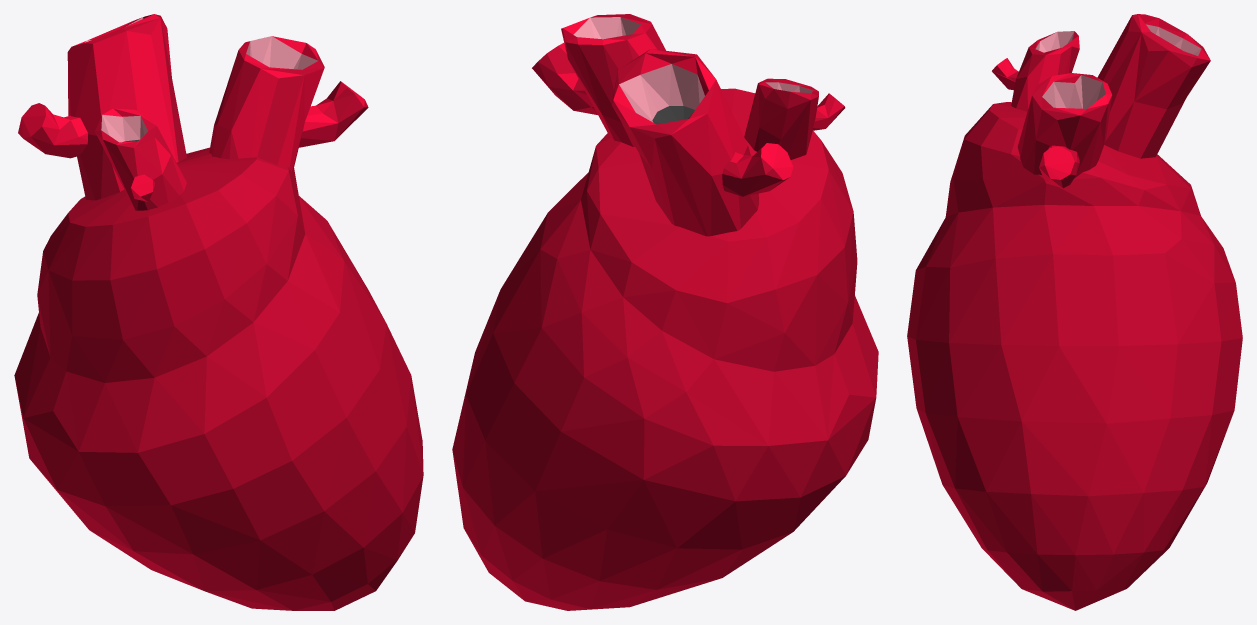
File: Ingredient_hart_1.fbx
The picture shows the model from 3 angles, left to right: view 1: azimuth 30°, elevation 25°; view 2: azimuth 150°, elevation 25°; view 3: azimuth 270°, elevation 25°; orthographic projection. The views are drawn at different scales.
Parts seen in each view (by area): view 1: Cylinder.002; view 2: Cylinder.002; view 3: Cylinder.002.
Boxes of the visible parts, x1,y1,x2,y2 form: Cylinder.002: (14,14,423,610); Cylinder.002: (452,14,878,610); Cylinder.002: (907,14,1242,610).
Size of the model in its own units: 19.53 by 30.31 by 17.88.
